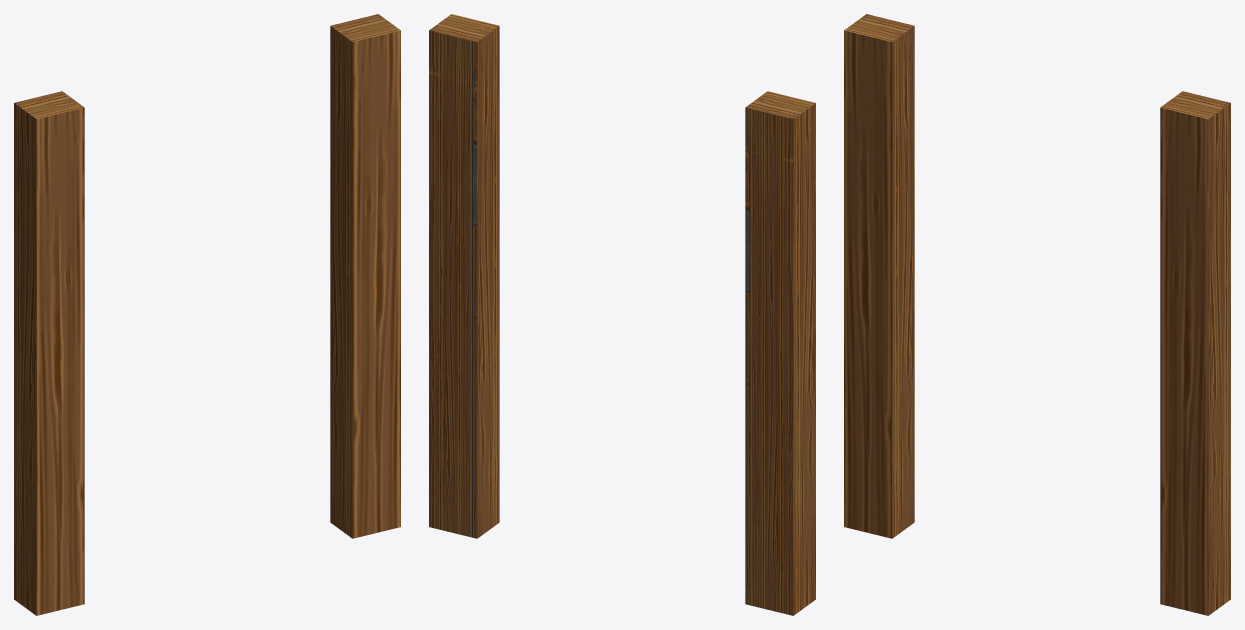
3 views of the same model, side by side, from view 1: azimuth 30°, elevation 25°; view 2: azimuth 150°, elevation 25°; view 3: azimuth 330°, elevation 25° (orthographic).
Parts seen in each view (by area): view 1: Cube.1404; view 2: Cube.1404; view 3: Cube.1404.
Part boxes in pixels (<box>): Cube.1404: <box>14,14,400,615</box>; Cube.1404: <box>429,14,815,615</box>; Cube.1404: <box>844,14,1230,615</box>.
Bounding box in the file's own units: 236 × 307 × 25.13.
1 material, 1 textured.
